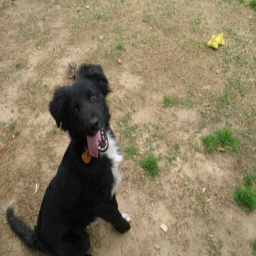dog: (13, 64, 131, 256)
